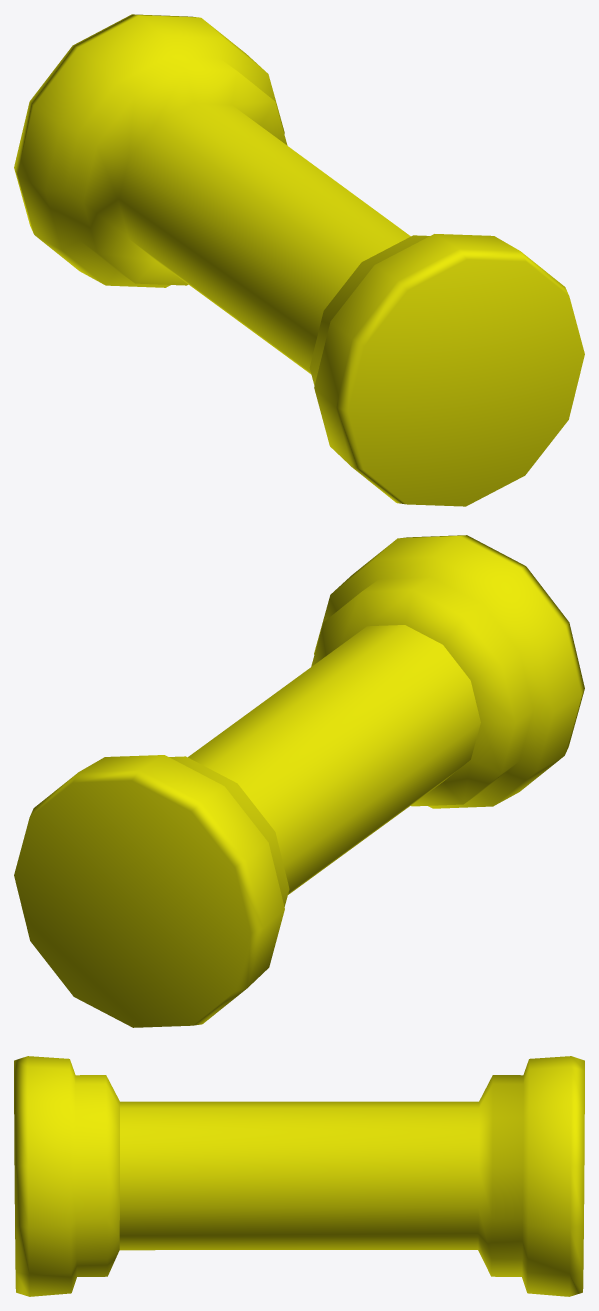
File: Rail_Rock_03.fbx
3 renders of one model, top to bottom at view 1: azimuth 30°, elevation 25°; view 2: azimuth 150°, elevation 25°; view 3: azimuth 270°, elevation 25°, orthographic. The views are drawn at different scales.
Parts seen in each view (by area): view 1: Rail_Rock_03; view 2: Rail_Rock_03; view 3: Rail_Rock_03.
Boxes of the visible parts, bbox=[...] form: Rail_Rock_03: bbox=[14, 14, 584, 506]; Rail_Rock_03: bbox=[14, 535, 584, 1027]; Rail_Rock_03: bbox=[14, 1056, 584, 1296].
Size of the model in its own units: 25.57 by 25.56 by 60.35.
